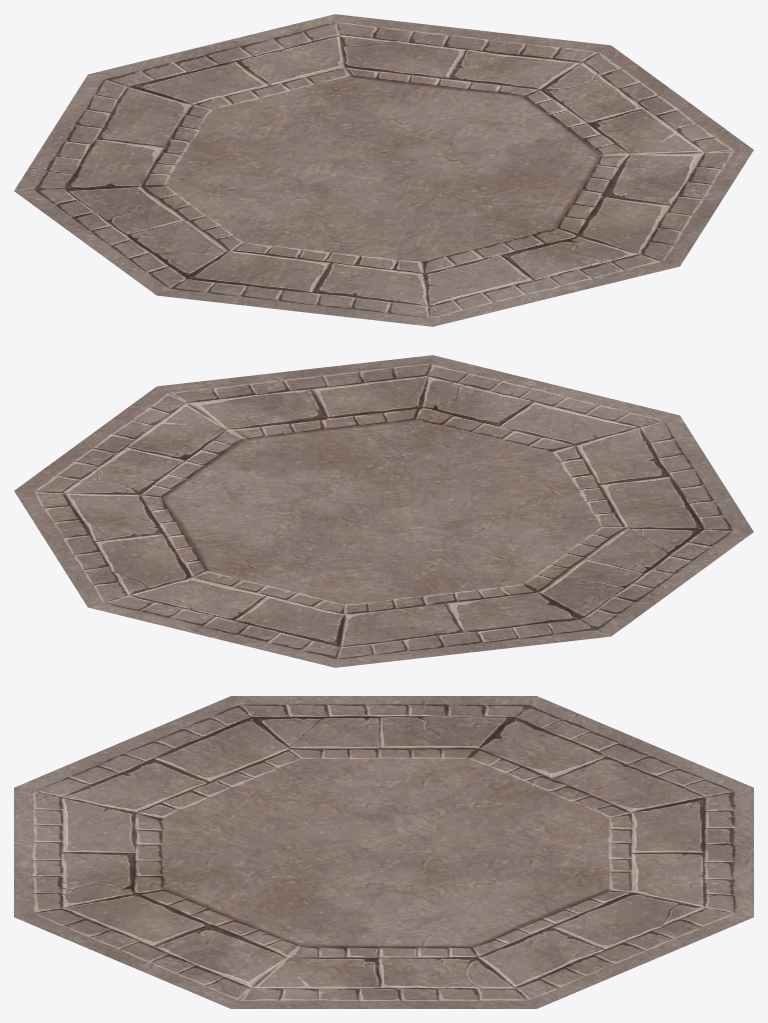
The model's file is em_floor_minotaur.fbx.
3 views of the same model, one above another, from view 1: azimuth 30°, elevation 25°; view 2: azimuth 150°, elevation 25°; view 3: azimuth 270°, elevation 25° (orthographic). The views are drawn at different scales.
Visible parts, largest first — view 1: em_floor_minotaur; view 2: em_floor_minotaur; view 3: em_floor_minotaur.
Part boxes in pixels (left/top/right/bottom): em_floor_minotaur: left=14, top=14, right=753, bottom=326; em_floor_minotaur: left=14, top=355, right=753, bottom=667; em_floor_minotaur: left=14, top=696, right=753, bottom=1008.
Size of the model in its own units: 7643 by 0 by 7643.
